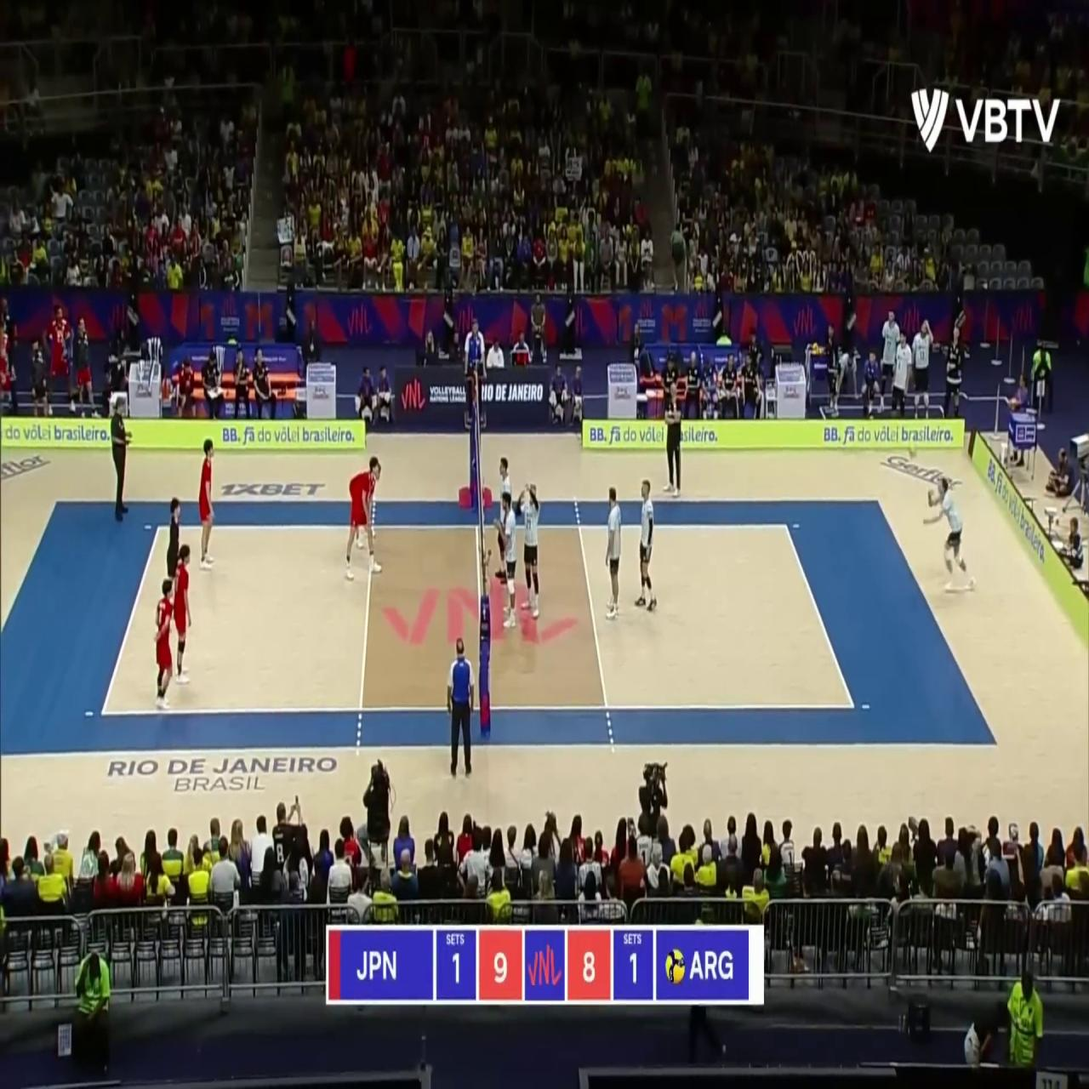ball: (908, 444, 918, 458)
